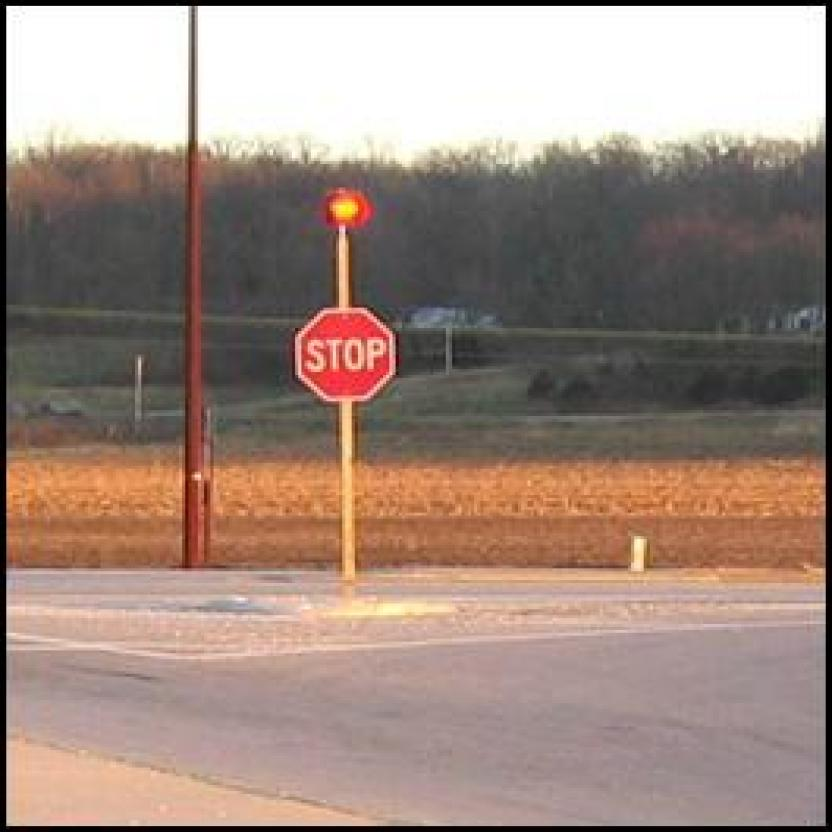Pole: (338, 406, 354, 576)
Sign: (298, 308, 397, 402)
